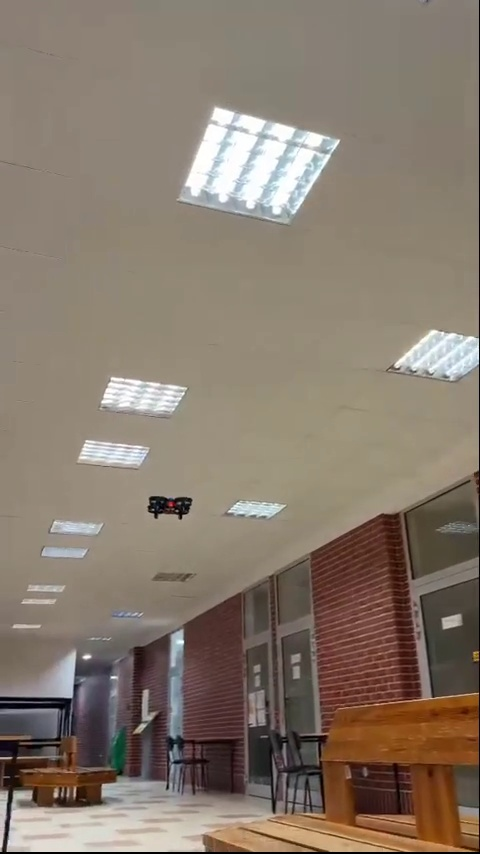drone: (151, 492, 195, 524)
